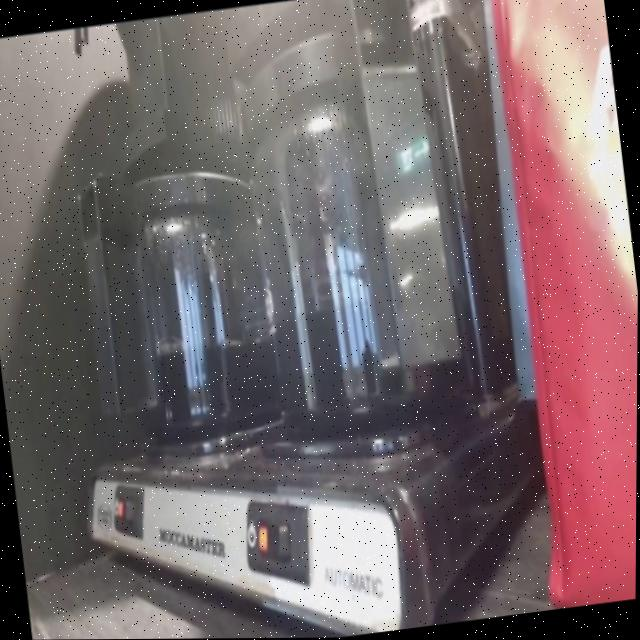coffee: (231, 22, 501, 452), (106, 146, 305, 462)
